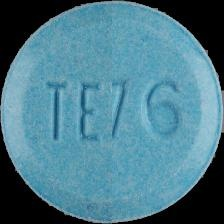54458-915: (0, 0, 224, 224)
